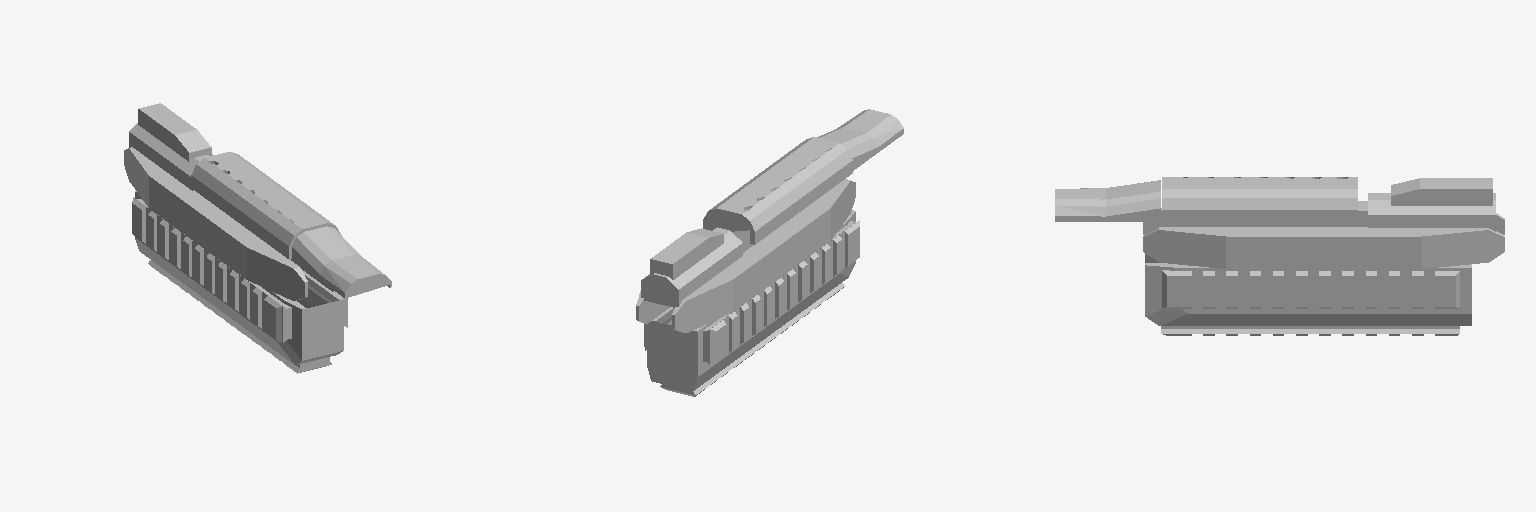
Rendered from Grip2.obj.
The picture shows the model from 3 angles: view 1: azimuth 30°, elevation 25°; view 2: azimuth 150°, elevation 25°; view 3: azimuth 270°, elevation 25°; orthographic projection.
Visible parts, largest first — view 1: Cube.017; view 2: Cube.017; view 3: Cube.017.
Part boxes in pixels (x1,y1,x2,y2): Cube.017: (124,103,391,373); Cube.017: (636,109,903,396); Cube.017: (1055,177,1504,335).
Size of the model in its own units: 0.1685 by 0.3255 by 0.9094.